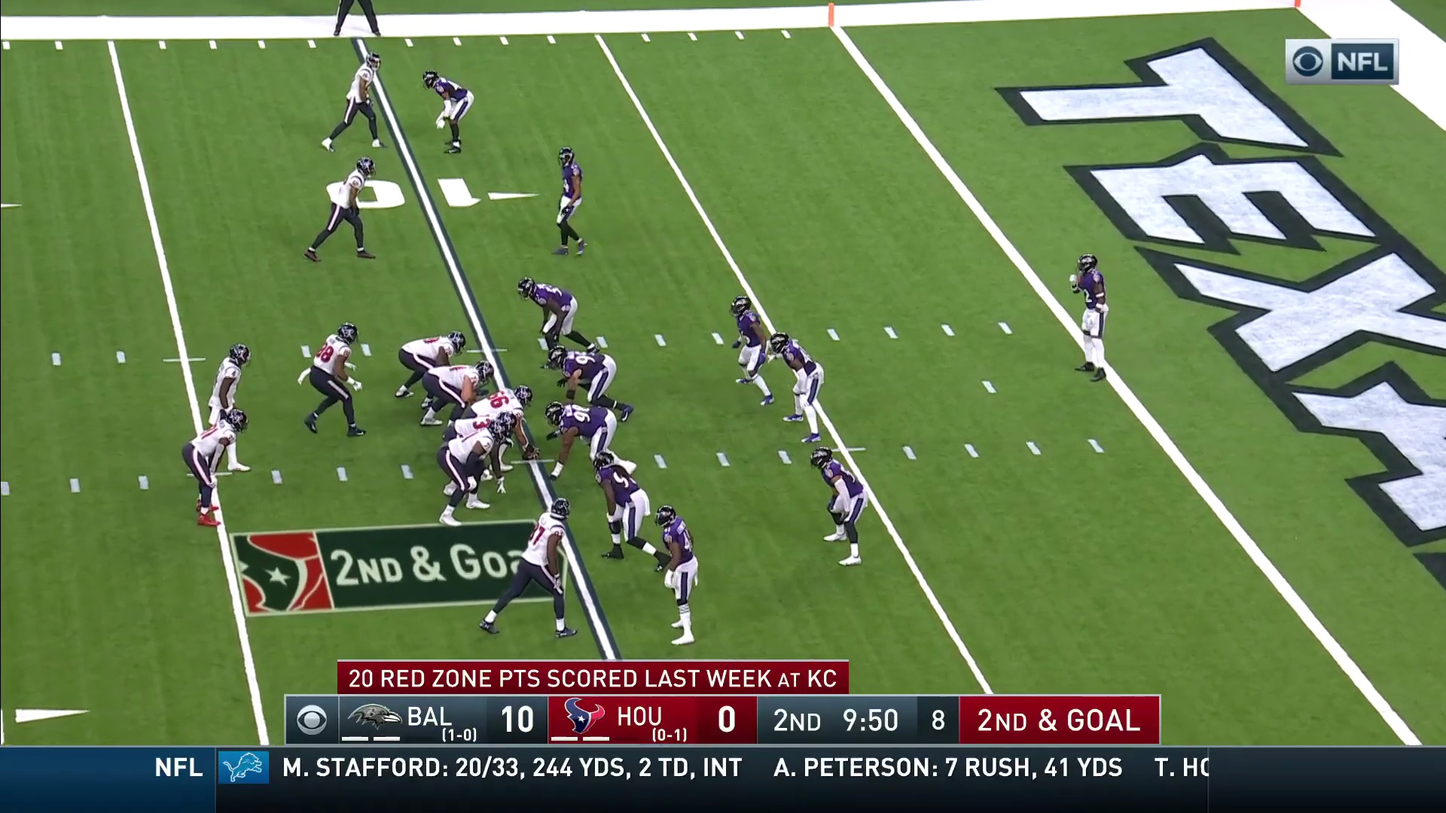Player: (182, 403, 246, 525), (444, 394, 521, 490), (299, 322, 363, 434), (437, 414, 500, 523), (203, 344, 249, 466), (596, 450, 649, 555), (730, 294, 773, 402), (1071, 254, 1108, 377), (546, 402, 616, 466), (548, 343, 616, 401), (454, 390, 519, 446), (421, 363, 483, 421), (556, 144, 583, 254)
